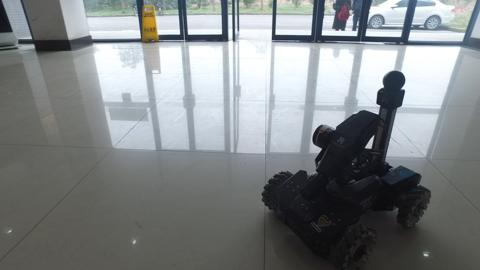car: (339, 1, 456, 30)
chariot: (259, 68, 433, 270)
